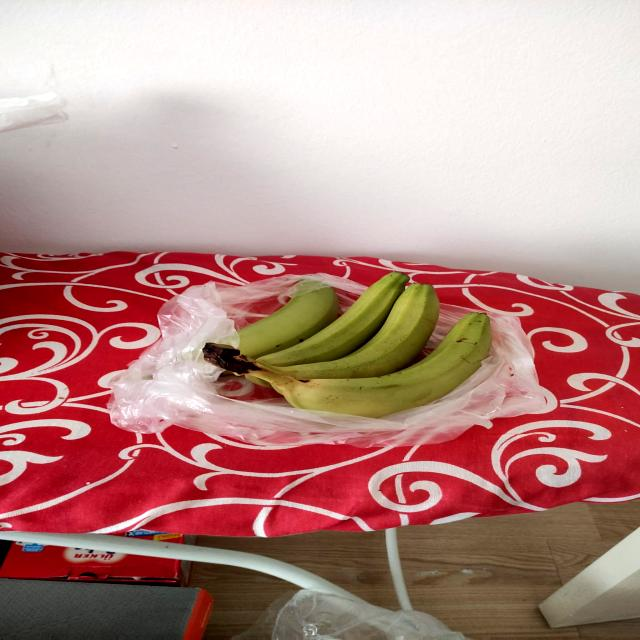banana: (194, 262, 518, 418), (192, 308, 520, 423)
